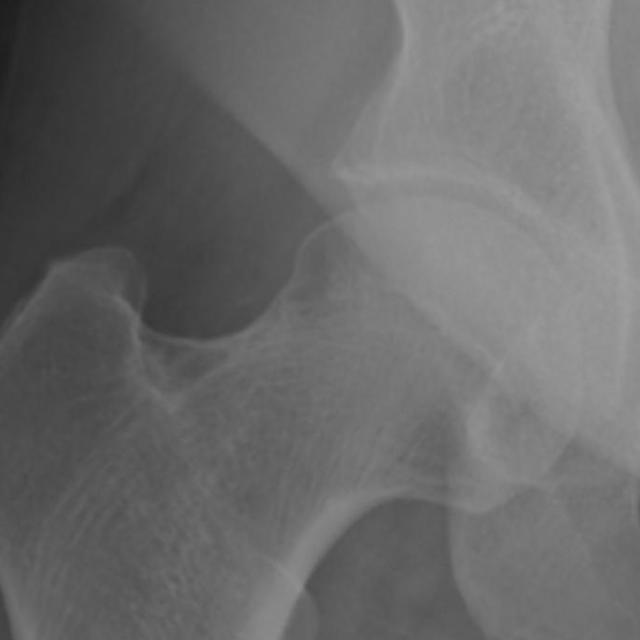Fitted_femural_head: (328, 193, 432, 328)
